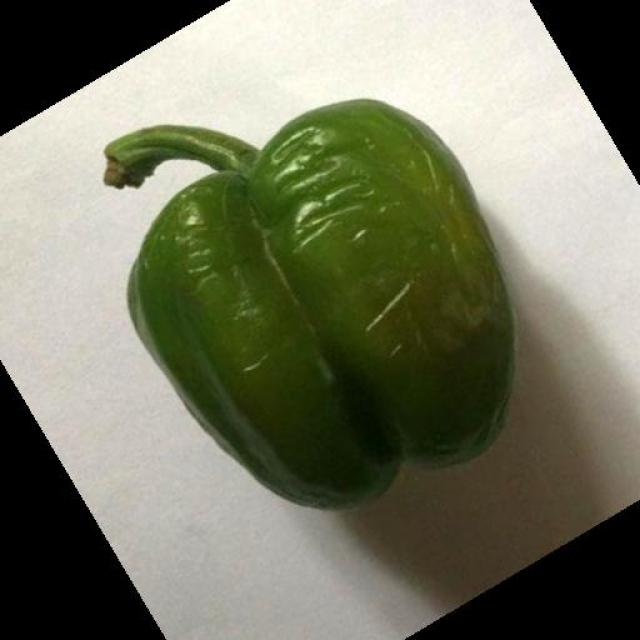Stale_Capsicum: (89, 113, 575, 506)
